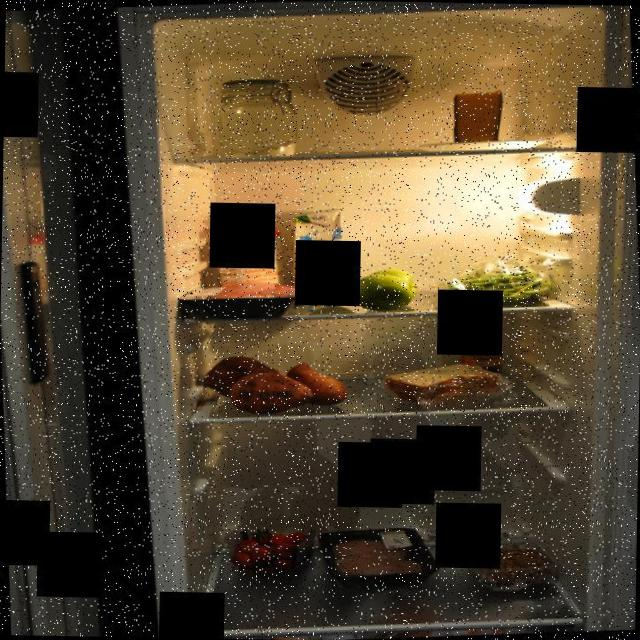Carne pollo: (315, 522, 443, 594)
Gambas/Langostinos: (463, 538, 565, 592)
Leche: (288, 205, 350, 302)
Manzana: (296, 262, 426, 316)
Queso: (450, 89, 506, 148)
